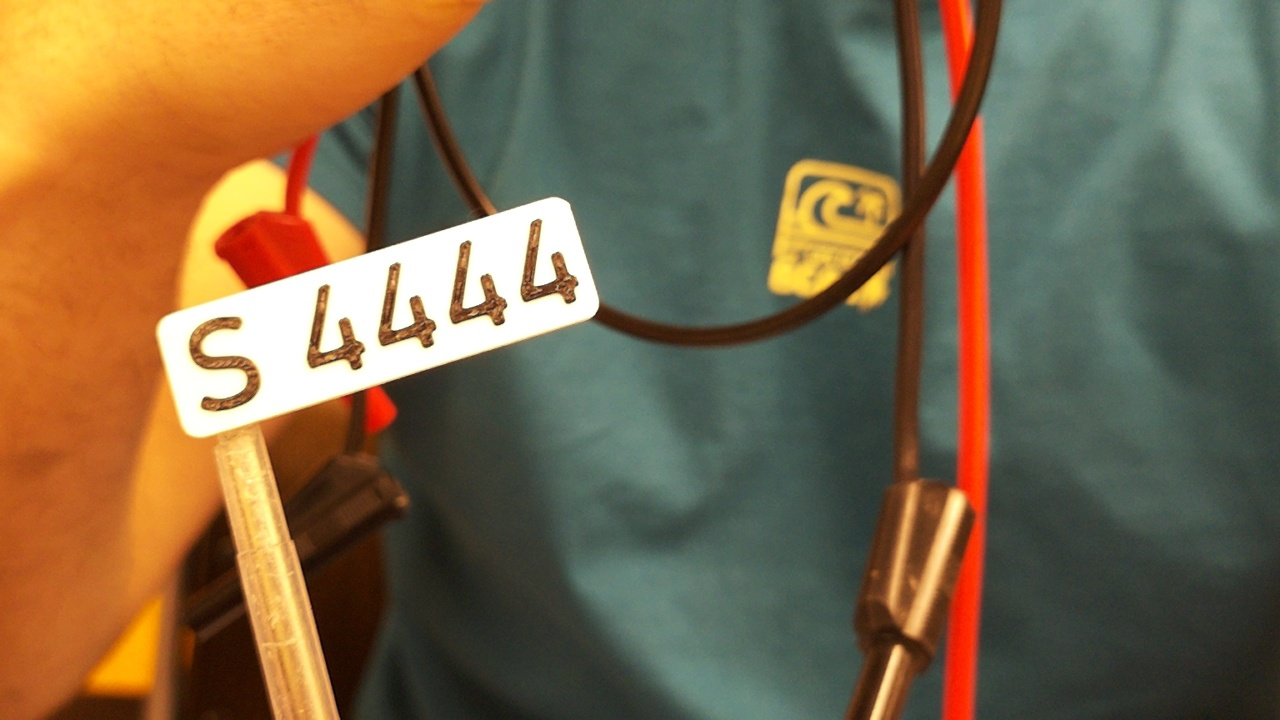license_plate: (153, 192, 603, 444)
